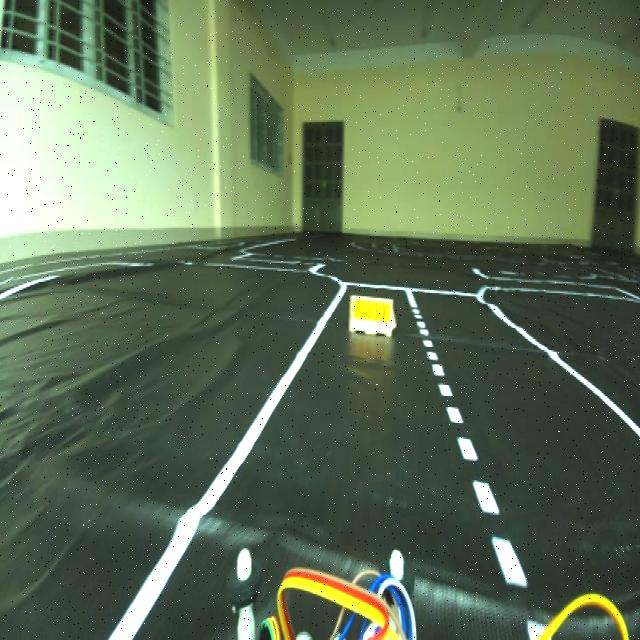roadblock: (345, 289, 396, 343)
